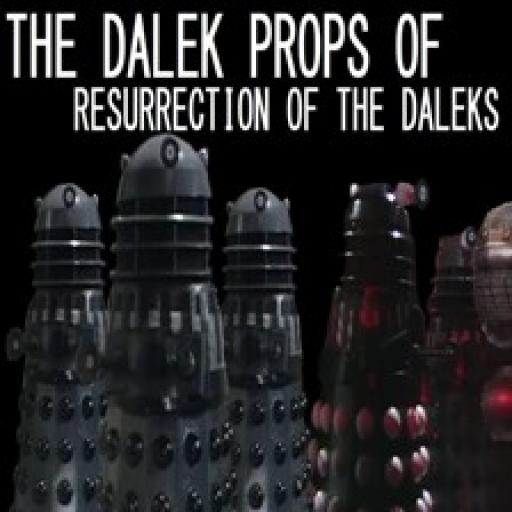dalek: (85, 130, 242, 512), (309, 174, 430, 512), (0, 186, 111, 511), (215, 185, 315, 512), (432, 229, 510, 512)
